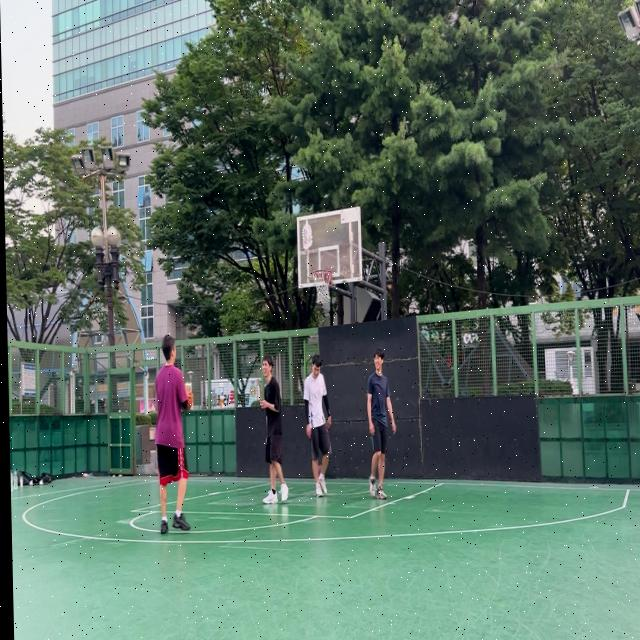basketball: (184, 383, 193, 410)
hoop: (311, 268, 334, 304)
